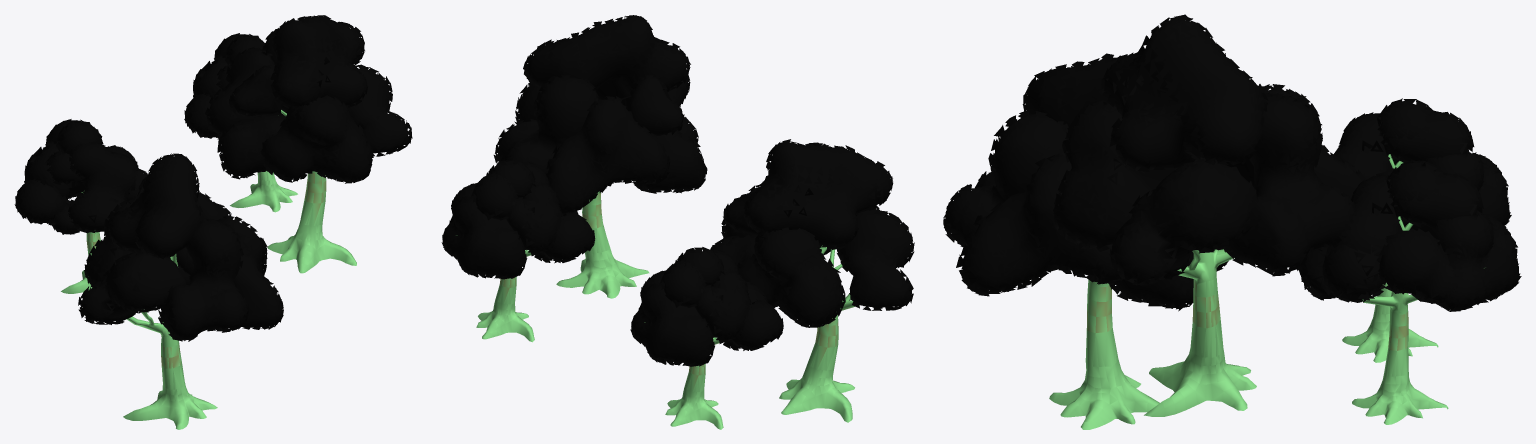
File: SM_ENV_LKNVLD_TreeSet_N.gltf
3 views of the same model, side by side, from view 1: azimuth 30°, elevation 25°; view 2: azimuth 150°, elevation 25°; view 3: azimuth 270°, elevation 25° (orthographic). The views are drawn at different scales.
Parts seen in each view (by area): view 1: SM_ENV_LKNVLD_TreeSet_N; view 2: SM_ENV_LKNVLD_TreeSet_N; view 3: SM_ENV_LKNVLD_TreeSet_N.
Part boxes in pixels (x1,y1,x2,y2): SM_ENV_LKNVLD_TreeSet_N: [14, 15, 412, 429]; SM_ENV_LKNVLD_TreeSet_N: [441, 15, 914, 429]; SM_ENV_LKNVLD_TreeSet_N: [943, 14, 1521, 429].
Size of the model in its own units: 19.65 by 19.06 by 19.98.
